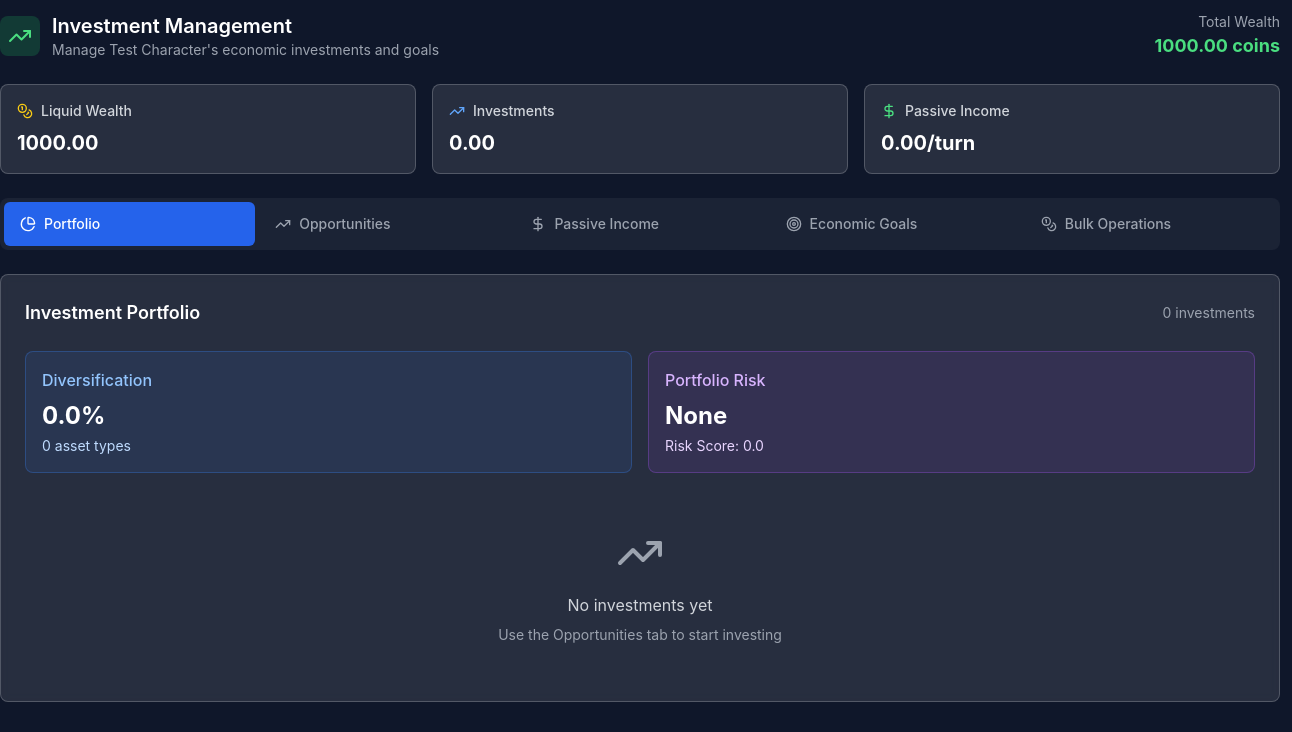
Test: InvestmentEditor Integration Tests › Accessibility and UX › provides helpful error messages
Click the button "Opportunities".
click(385, 224)  # box [259, 202, 510, 246]
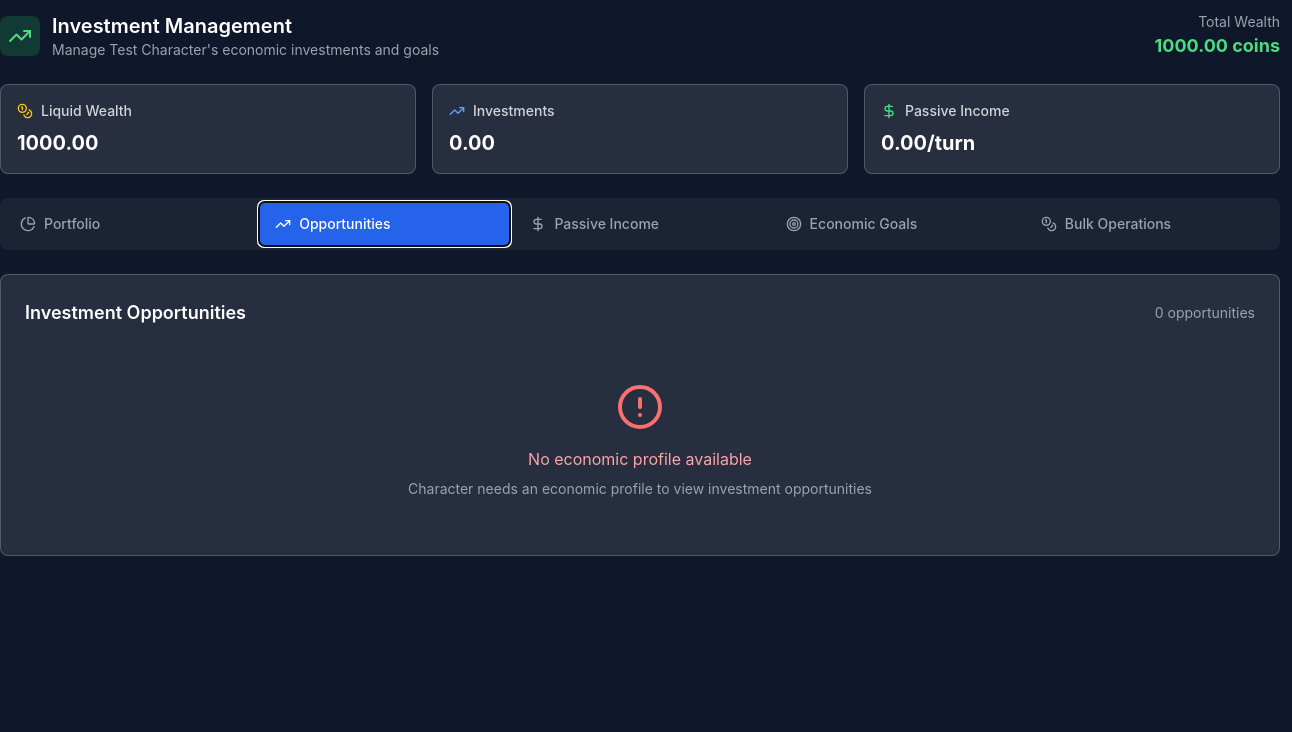
Check: the text "No economic profile available" is shown, box [528, 449, 752, 469]
Check: the text "Character needs an economic profile to view investment opportunities" is shown, box [408, 480, 872, 497]
